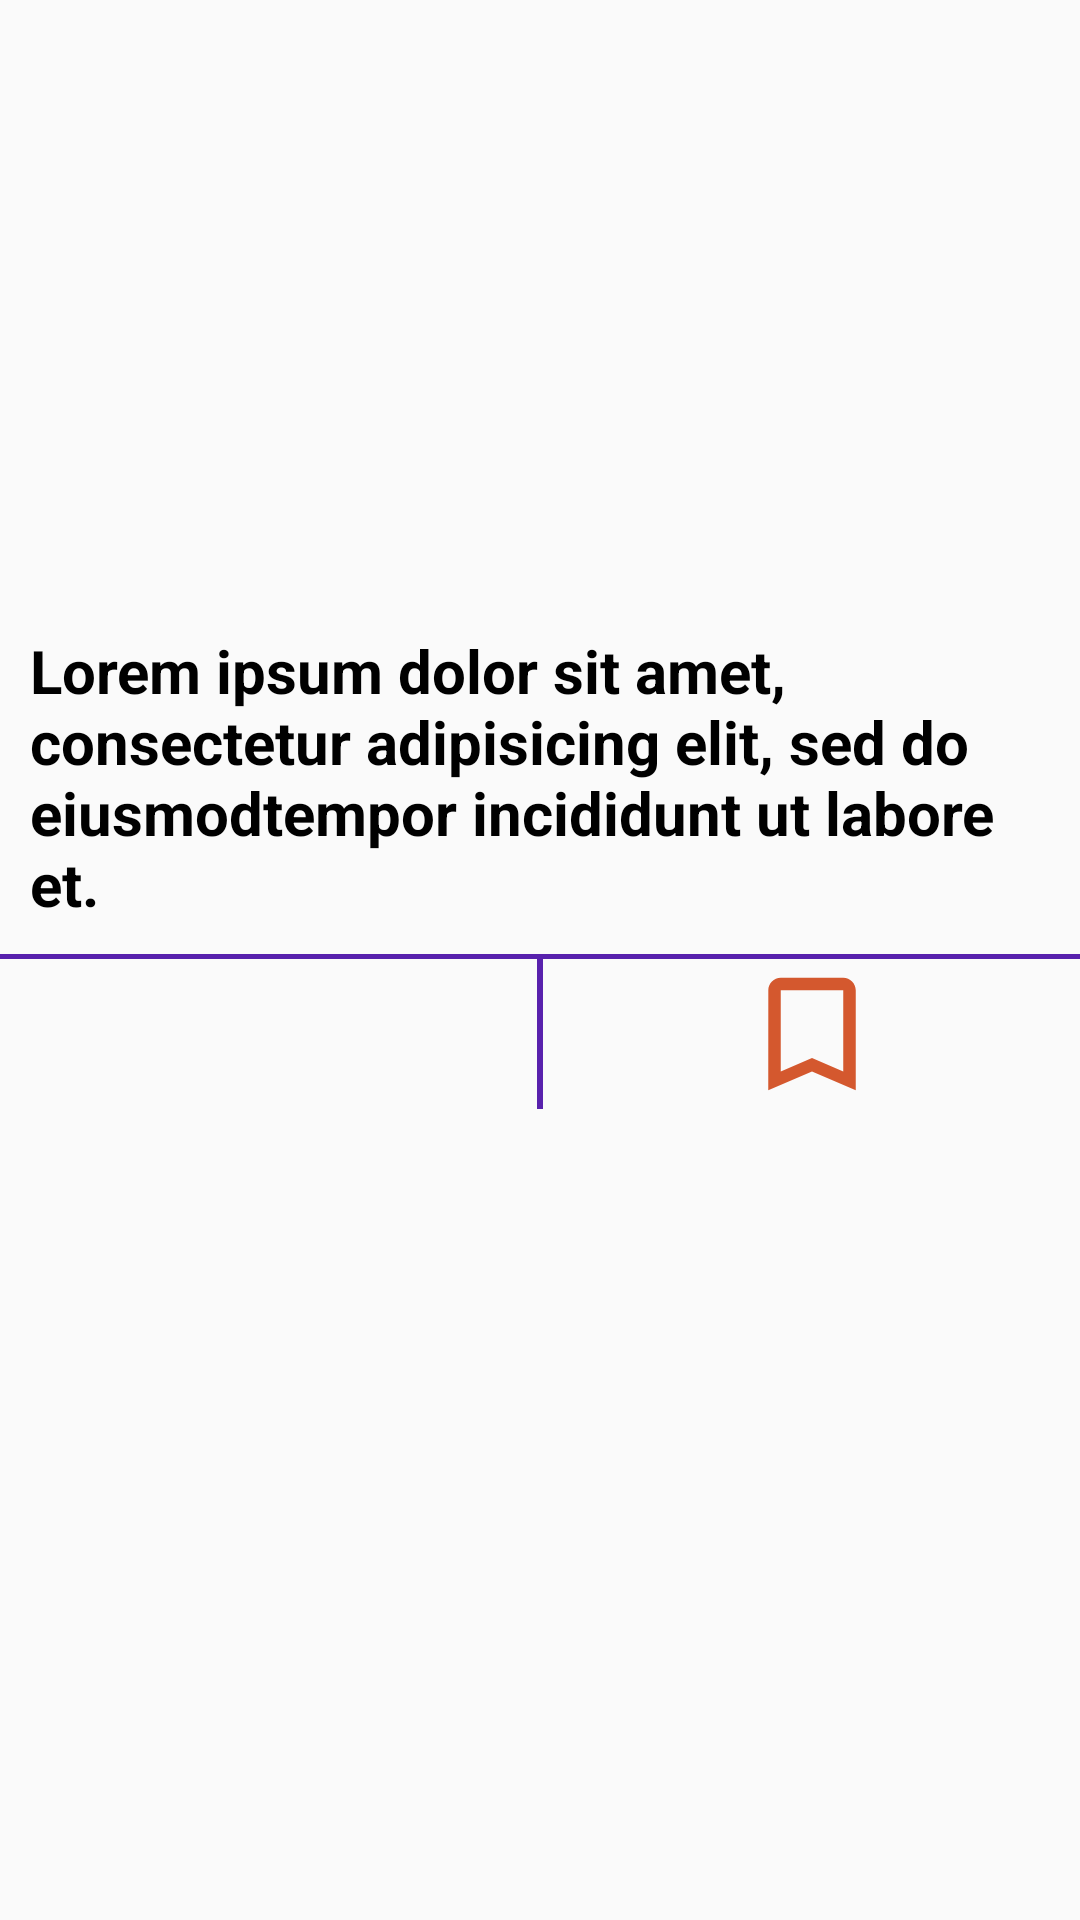

Named icons in this screenshot (1080*1920) and their bounding boxes, (x1, y1, x2, y2):
bookmark border: (768, 977, 856, 1090)
